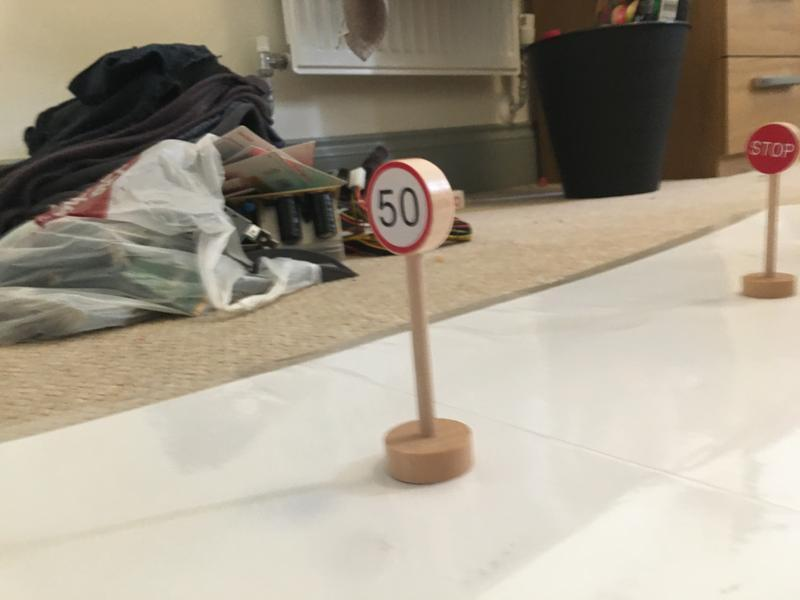Traffic_Sign_50: (364, 162, 434, 251)
Traffic_Sign_Stop: (747, 123, 797, 172)
